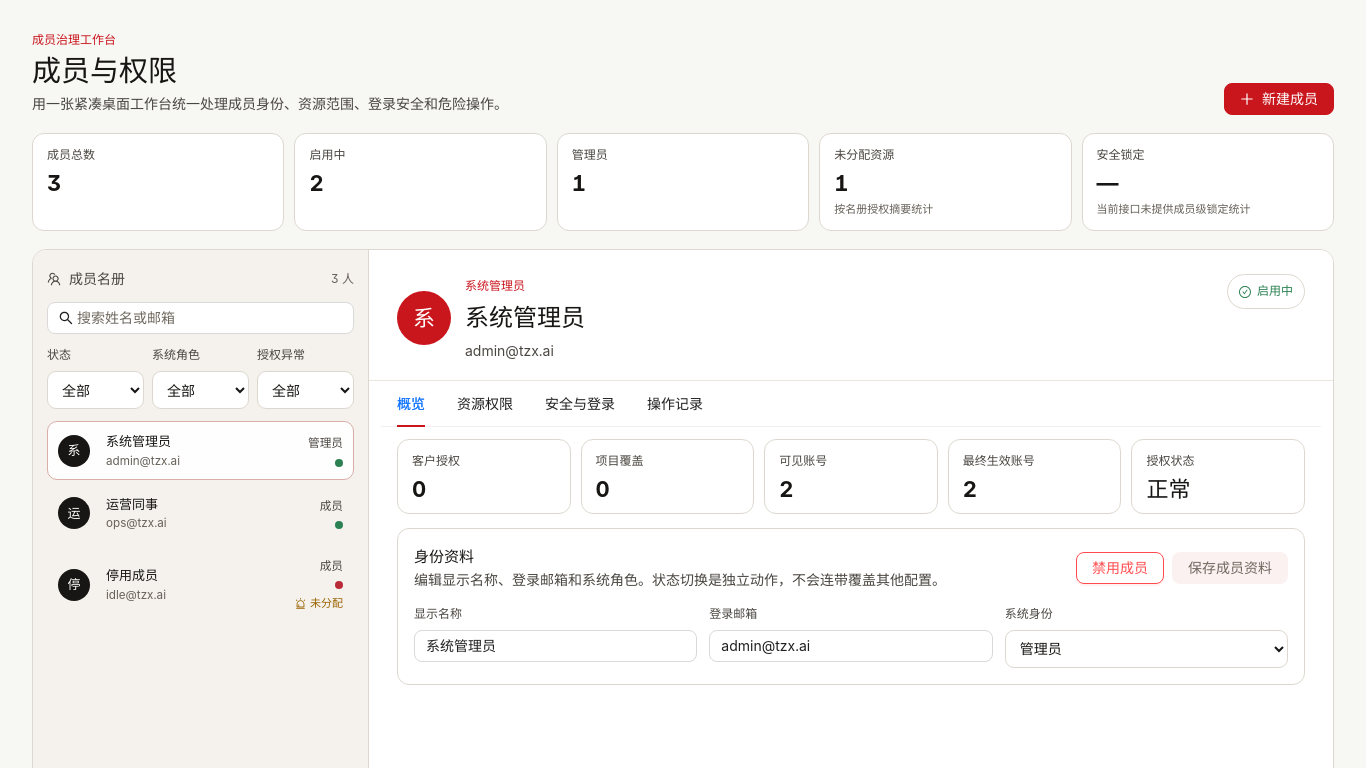
Scenario: Users › auto-selects the first member and exposes the four governance tabs
This screenshot has width=1366, height=768.
Expected: the heading "成员与权限" is shown, x1=32 y1=53 x2=177 y2=88
Expected: the tab "概览" is shown, x1=397 y1=393 x2=425 y2=415
Click the tab "操作记录".
click(675, 404)  # box x1=647 y1=393 x2=703 y2=415
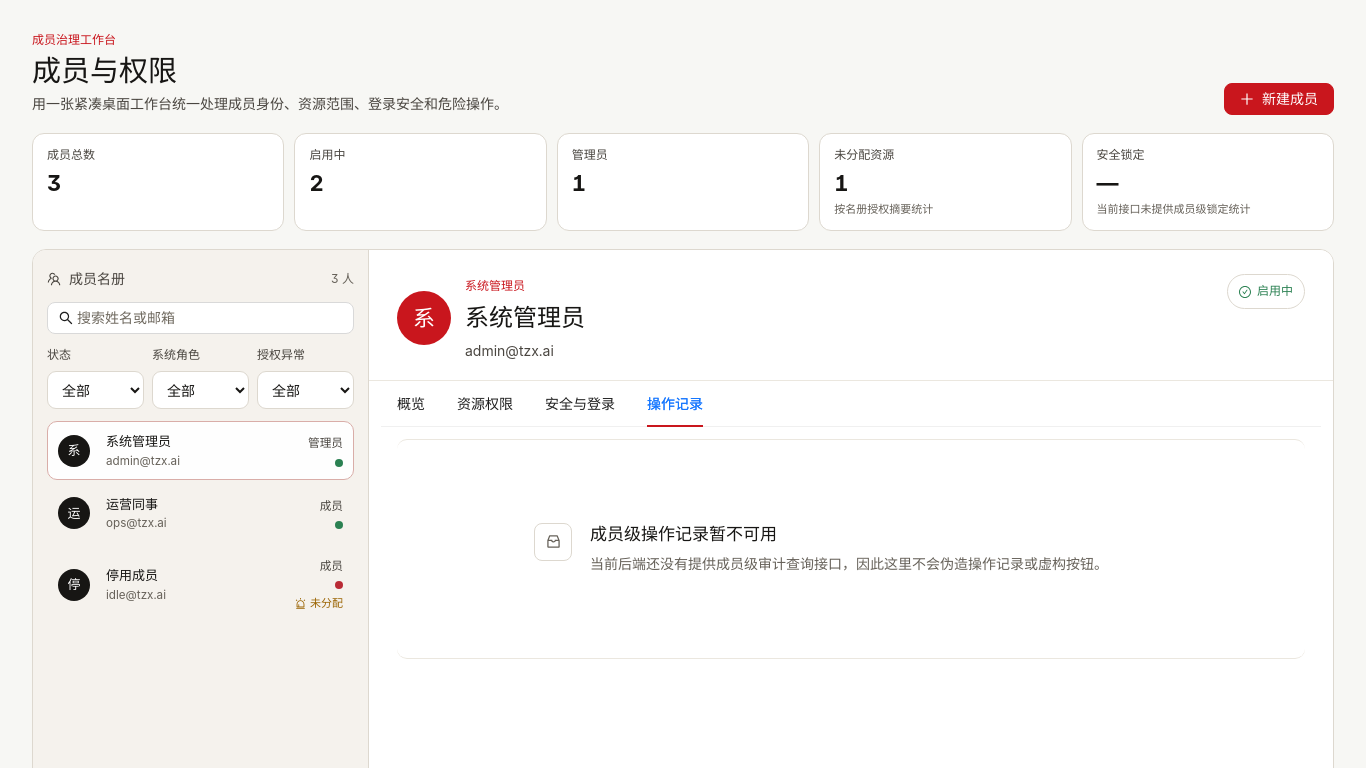
Now the heading "成员级操作记录暂不可用" is shown, box x1=590 y1=524 x2=777 y2=544
